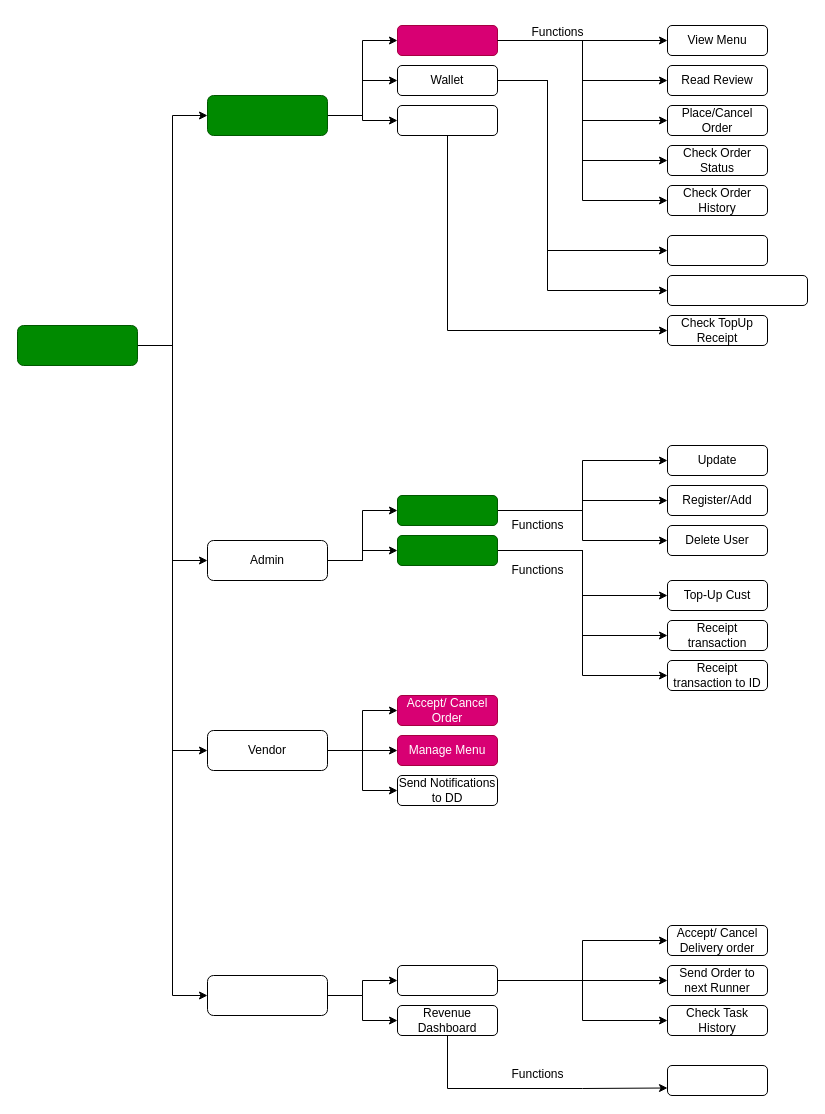
Some shapes in this 825 by 1114 pixel diagram are drawn without their labels. The shapes that lost their labels are listed below. From the top down, each one's centre as x and y in pixels, then its label:
At point 447,40: "Menu".
At point 267,115: "Customer".
At point 447,120: "Notification".
At point 717,250: "Check Balance".
At point 737,290: "Check Transaction History".
At point 77,345: "Login".
At point 447,510: "User Registration".
At point 447,550: "Student Credit".
At point 267,995: "Delivery Runner".
At point 447,980: "View Tasks".
At point 717,1080: "View Revenue".
